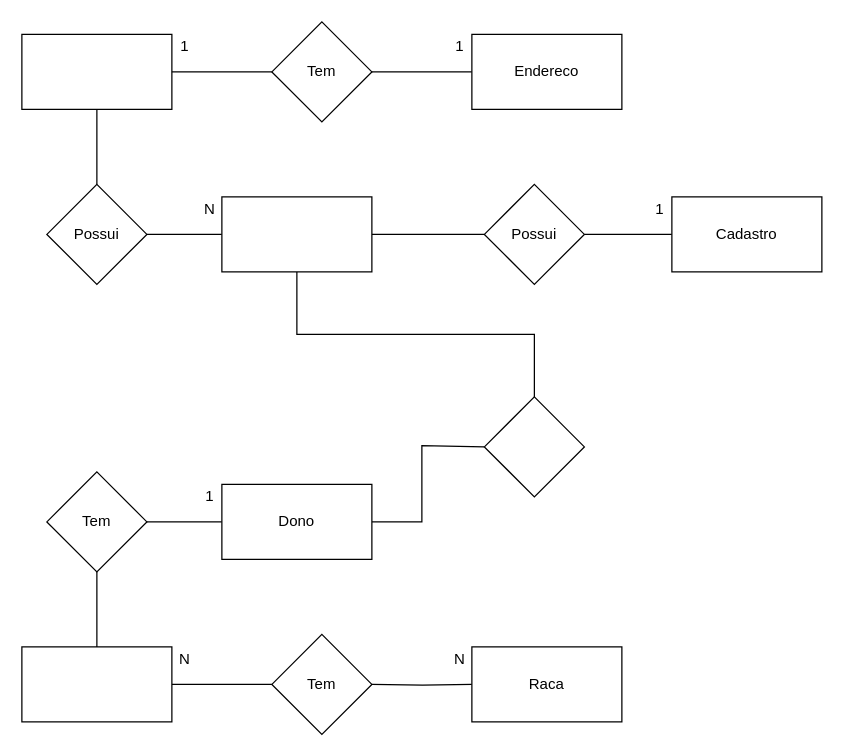
The diagram is 844 pixels wide and 756 high, and some of its shapes have lost their labels. Each missing label, with the box of its shape:
Clinica: (21, 33, 172, 109)
Consulta: (483, 396, 584, 497)
Pet: (21, 646, 172, 722)
Veterinario: (221, 196, 372, 272)
